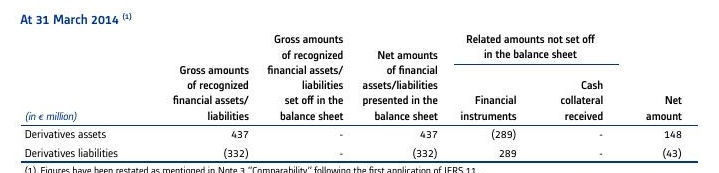table: (0, 0, 719, 173)
